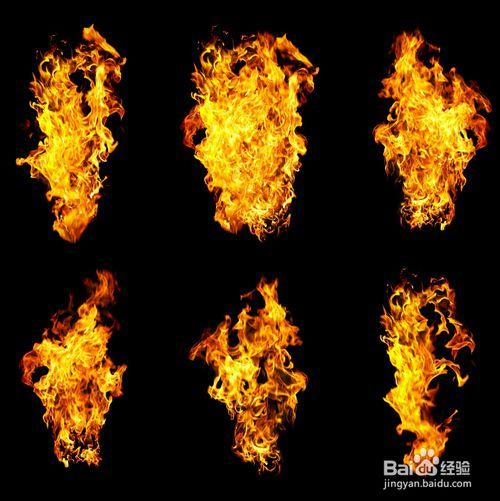fire: (206, 302, 311, 464), (202, 52, 295, 224), (393, 44, 473, 219), (27, 308, 115, 464), (28, 60, 104, 230), (388, 295, 444, 445)
